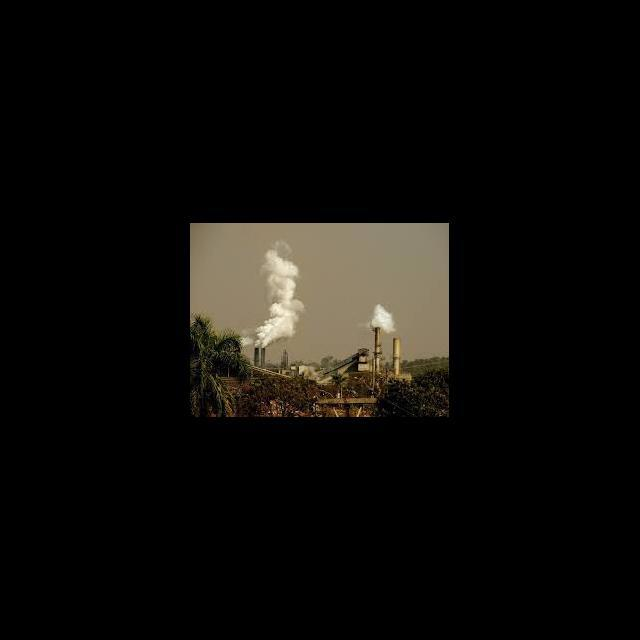Smoke: (252, 244, 308, 347), (368, 302, 396, 332)
